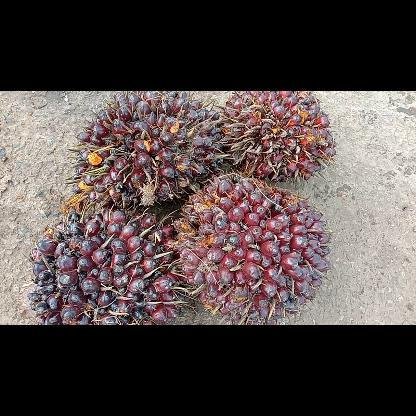Kurang masak: (26, 204, 186, 324), (64, 91, 222, 212), (221, 90, 340, 184)
TBS masak: (172, 170, 334, 324)
